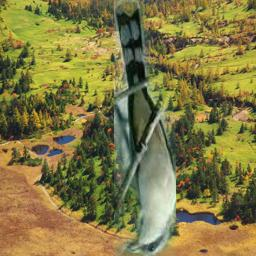Cuckoo: (114, 0, 176, 256)
